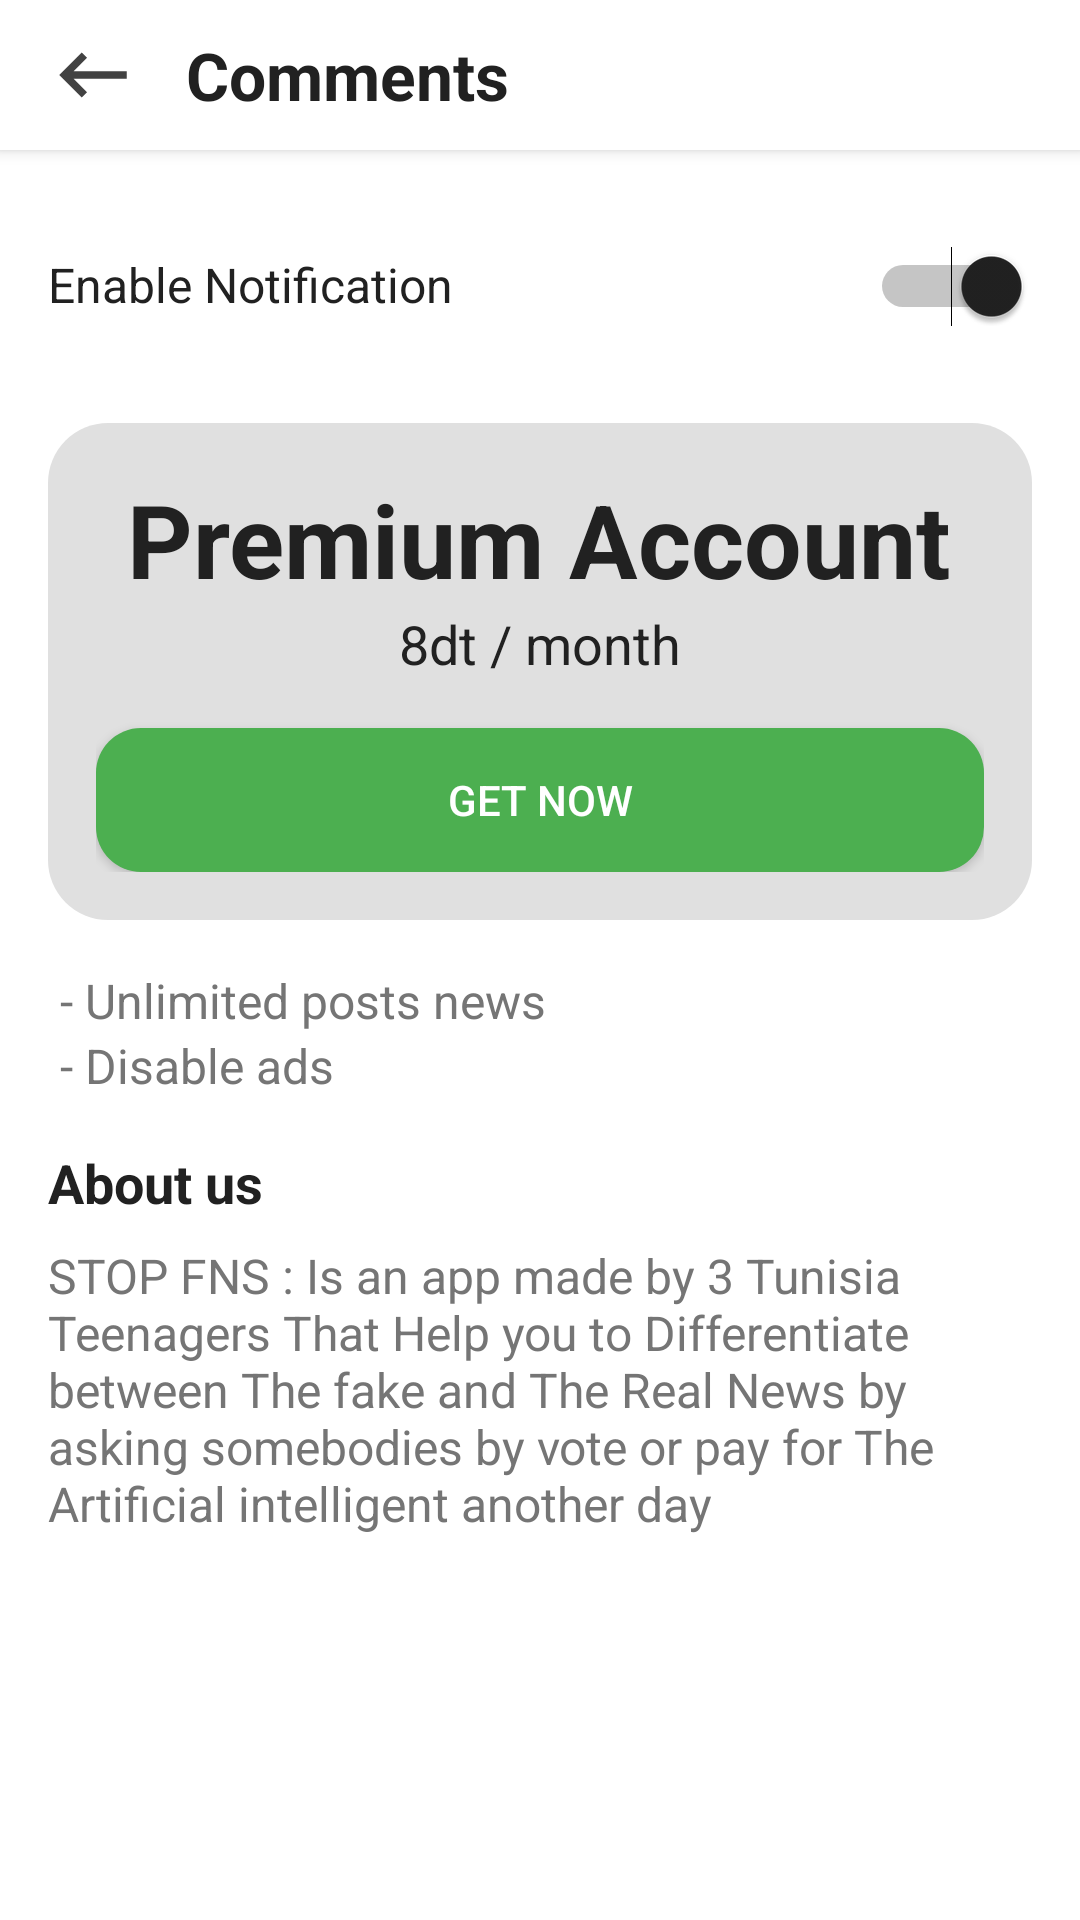

Locate icon controls on the screen. Image size 1080w x 1920h, boxes as bbox=(x1, y1, x2, y2).
keyboard backspace: bbox=(59, 52, 127, 98)
